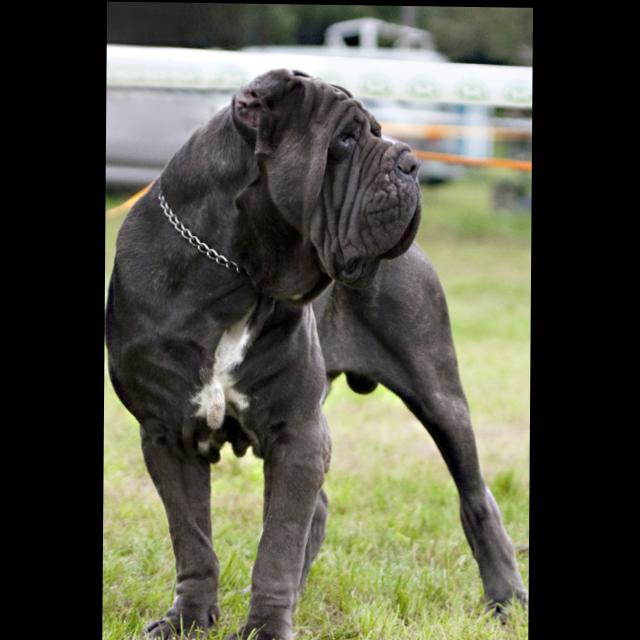mastino_napoletano: (107, 64, 533, 640)
